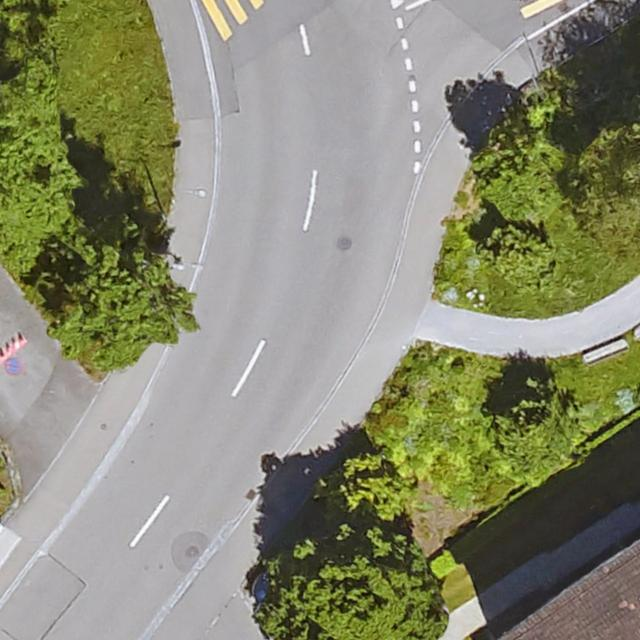tree: (252, 516, 450, 640), (49, 231, 202, 369), (470, 117, 570, 223), (491, 381, 589, 488), (0, 135, 79, 263), (318, 450, 416, 531), (581, 122, 640, 242), (476, 220, 556, 291)
